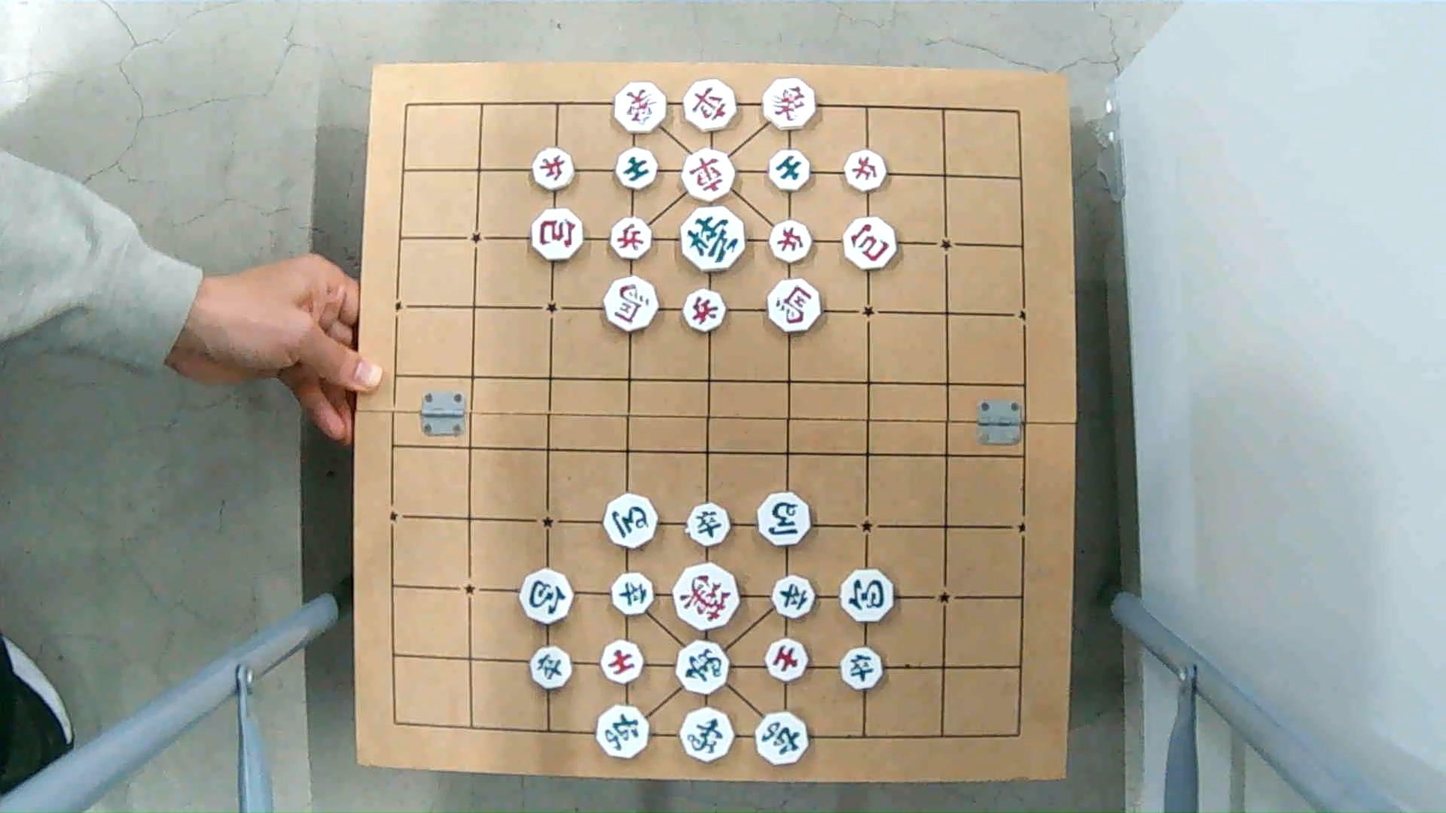cha_green: (596, 708, 655, 757), (753, 714, 811, 763)
cha_red: (679, 151, 737, 201), (681, 81, 737, 129)
jol_green: (609, 575, 657, 616), (684, 505, 733, 545), (838, 650, 886, 689), (771, 576, 816, 617), (532, 647, 572, 690)
jol_red: (767, 221, 816, 261), (681, 291, 729, 331), (607, 217, 656, 256), (840, 151, 888, 190), (531, 149, 579, 187)
ma_green: (602, 497, 662, 547), (754, 494, 813, 544)
ma_red: (602, 275, 660, 333), (767, 280, 825, 327)
po_green: (836, 571, 897, 620), (520, 571, 578, 622)
po_red: (842, 218, 900, 268), (527, 210, 584, 260)
sa_green: (613, 151, 660, 190), (768, 152, 813, 191)
sa_red: (599, 641, 645, 684), (762, 641, 810, 680)
sang_green: (671, 641, 730, 690), (676, 712, 734, 760)
sang_red: (758, 80, 819, 128), (610, 85, 670, 132)
wang_green: (678, 207, 746, 269)
wang_red: (673, 566, 743, 628)
